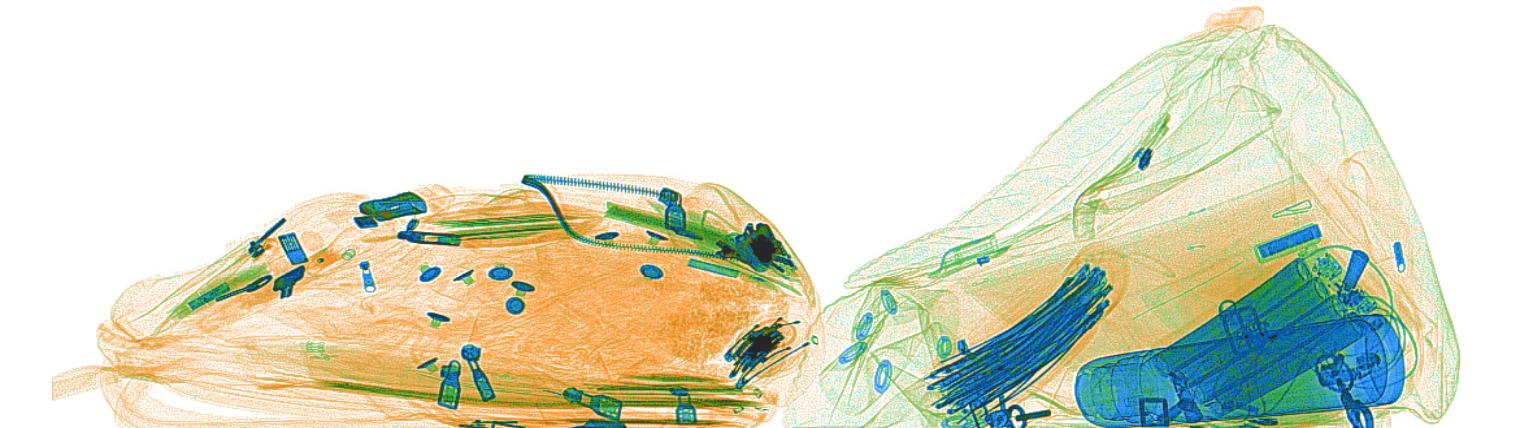battery: (1147, 239, 1387, 418), (185, 281, 233, 311)
